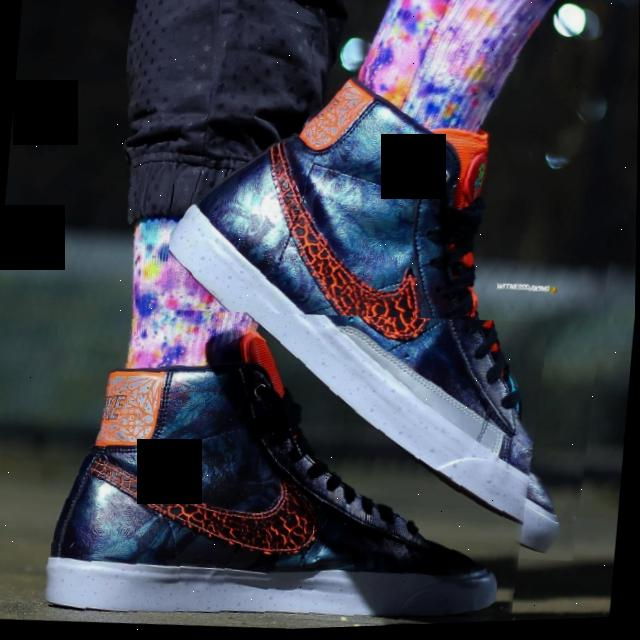shoe: (145, 31, 634, 579), (31, 291, 550, 639)
